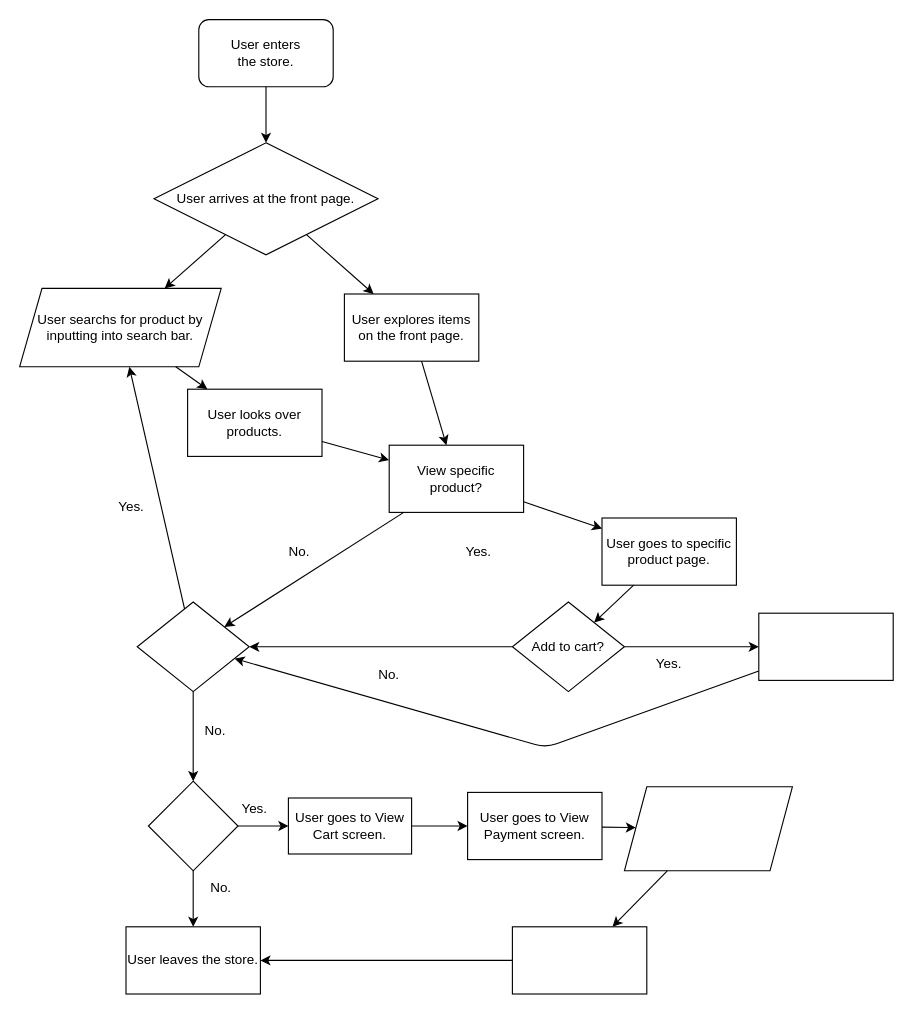
The diagram is 913 pixels wide and 1014 high, and some of its shapes have lost their labels. Each missing label, with the centre of its shape:
"Checkout?" belongs at point (192, 825).
"Continue shopping?" belongs at point (192, 646).
"Product is added to cart." belongs at point (825, 646).
"User enters payment information." belongs at point (707, 828).
"User gets confirmation email and goes to order confirmation screen." belongs at point (579, 960).
